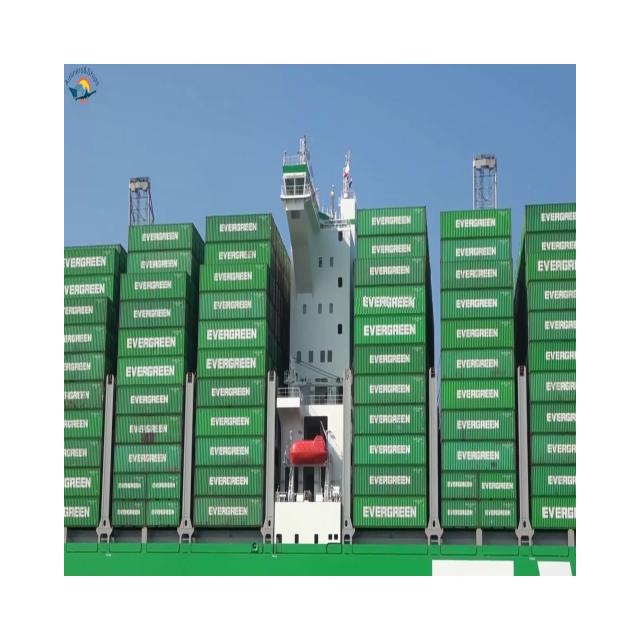OCR: (355, 291, 422, 313)
